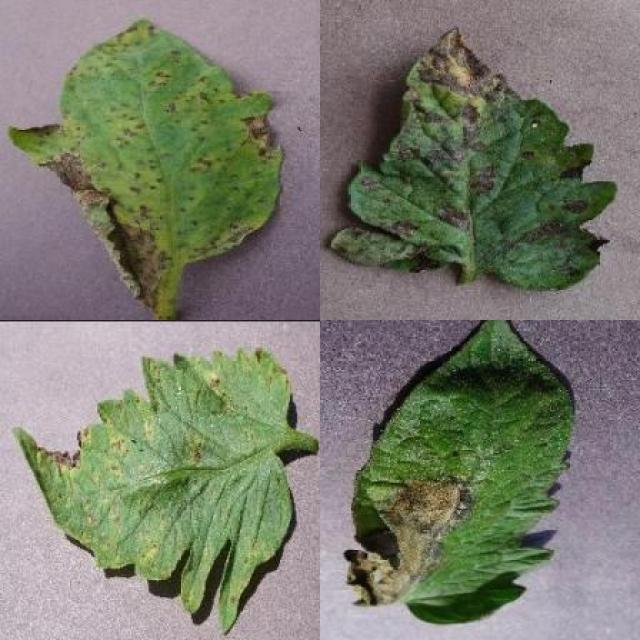Early Blight: (332, 27, 614, 294)
Late Blight: (342, 320, 577, 626)
Septoria: (10, 17, 283, 320), (12, 346, 295, 634)
